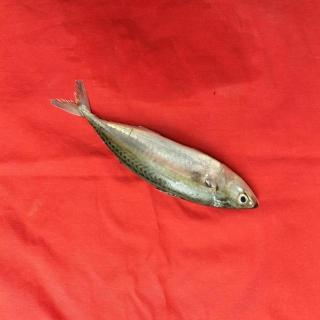Ikan: (53, 65, 267, 224)
